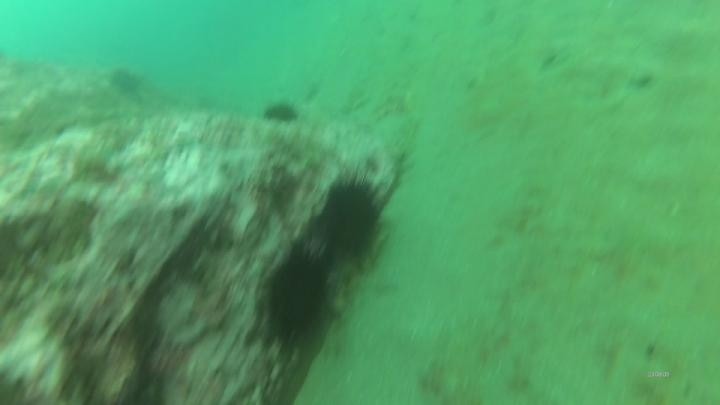echinus: (257, 230, 342, 350), (313, 164, 386, 272)
